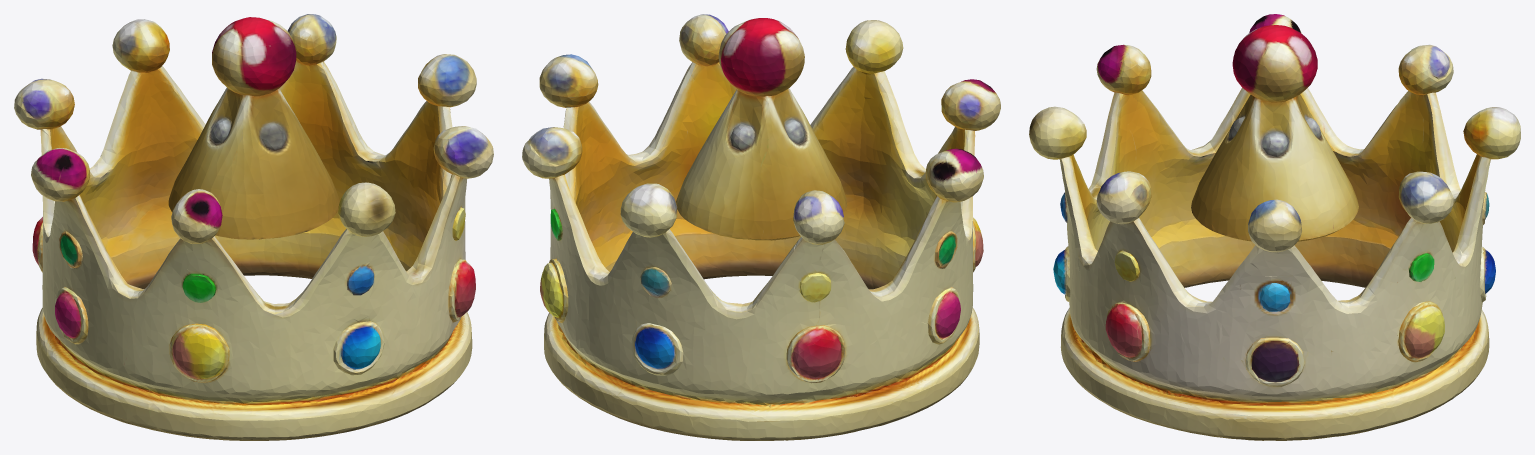
Rendered from hat_crown.glb.
The picture shows the model from 3 angles, left to right: view 1: azimuth 30°, elevation 25°; view 2: azimuth 150°, elevation 25°; view 3: azimuth 270°, elevation 25°; orthographic projection.
Visible parts, largest first — view 1: world; view 2: world; view 3: world.
Boxes of the visible parts, left/top/right/bottom form: world: left=14, top=14, right=493, bottom=440; world: left=522, top=14, right=1000, bottom=440; world: left=1029, top=14, right=1520, bottom=440.
Bounding box in the file's own units: 1 × 0.737 × 1.
Materials: 1 (1 with a texture image).
